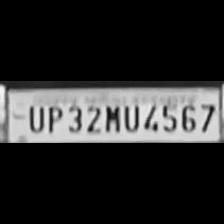2: (83, 100, 101, 134)
3: (64, 100, 82, 134)
4: (142, 98, 158, 134)
5: (158, 98, 176, 134)
6: (178, 99, 196, 134)
7: (196, 100, 216, 132)
M: (102, 100, 120, 134)
P: (45, 102, 63, 134)
U: (23, 102, 44, 132), (122, 99, 140, 134)
